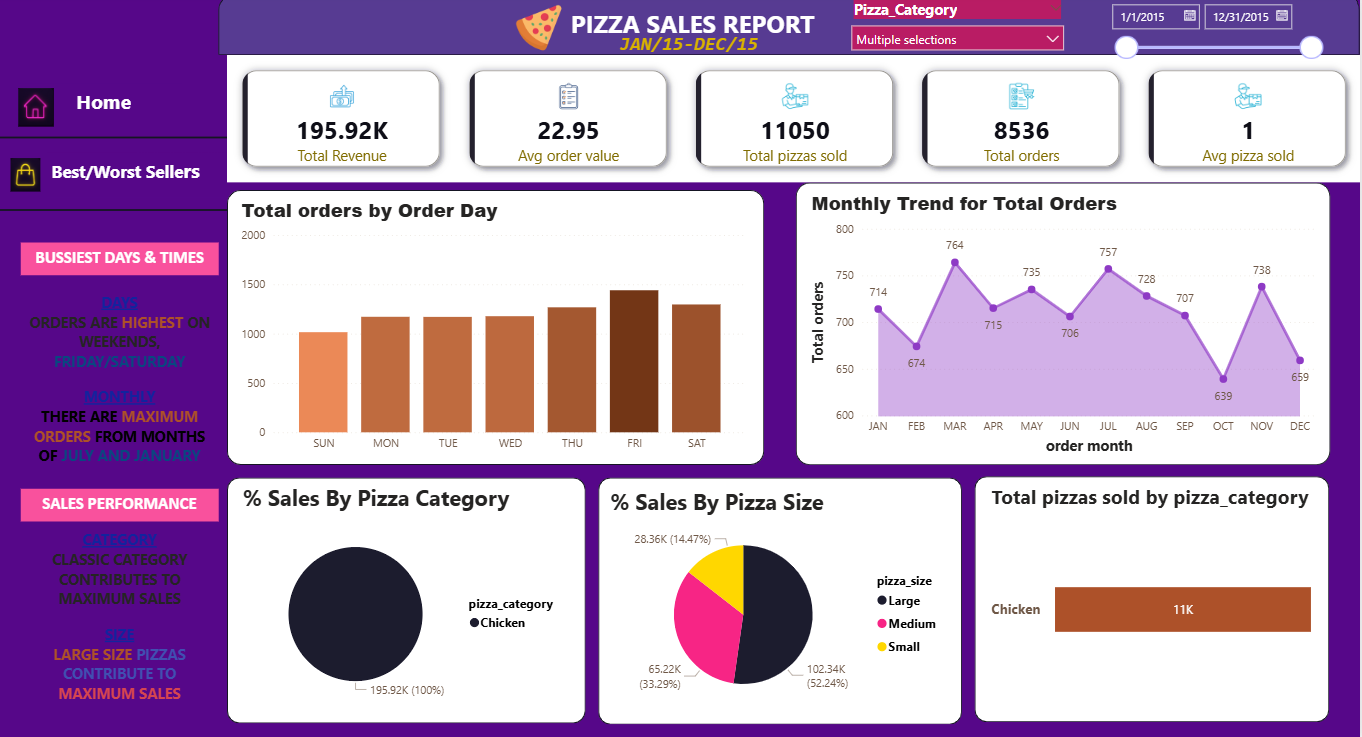

This screenshot's page, from the dashboard's own definition file:
{"tool":"powerbi","page":{"name":"Home ","canvas":[1500,820],"ordinal":0},"visuals":[{"type":"cardVisual","fields":{"Data":["pizza_sales.Total Revenue","pizza_sales.Avg order value","pizza_sales.Total pizzas sold","pizza_sales.Total orders","pizza_sales.Avg pizza sold"]},"box":[252.8,66,1247.6,140.1],"z":0},{"type":"shape","box":[243.2,0,1255.8,66],"z":1000},{"type":"textbox","box":[596.3,8.2,336.6,56.3],"z":2000},{"type":"textbox","box":[669.1,35.7,182.7,42.6],"z":3000},{"type":"image","box":[564.7,2.7,61.8,66],"z":4000},{"type":"shape","box":[253.5,214.5,590.5,302.2],"z":5000},{"type":"clusteredColumnChart","fields":{"Category":["pizza_sales.Order Day"],"Y":["pizza_sales.Total orders"]},"box":[263.2,221.4,565.4,289.7],"z":6000},{"type":"shape","box":[877.4,206.1,587.7,310.6],"z":7000},{"type":"lineChart","title":"Monthly Trend for Total Orders","fields":{"Y":["pizza_sales.Total orders"],"Category":["pizza_sales.order month"]},"box":[889.9,214.5,564,296.6],"z":8000},{"type":"shape","box":[253.5,530.6,394.1,270.2],"z":9000},{"type":"pieChart","title":"% Sales By Pizza Category","fields":{"Category":["pizza_sales.pizza_category"],"Y":["pizza_sales.Total Revenue"]},"box":[264.6,536.2,373.2,257.6],"z":10000},{"type":"shape","box":[661.5,530.6,399.7,271.6],"z":11000},{"type":"shape","box":[1075.1,529.2,389.9,270.2],"z":12000},{"type":"pieChart","title":"% Sales By Pizza Size","fields":{"Y":["pizza_sales.Total Revenue"],"Category":["pizza_sales.pizza_size"]},"box":[668.5,540.4,385.8,250.7],"z":13000},{"type":"funnel","fields":{"Category":["pizza_sales.pizza_category"],"Y":["pizza_sales.Total pizzas sold"]},"box":[1087.7,536.2,366.3,250.7],"z":14000},{"type":"textbox","box":[26.5,543.1,217.3,36.2],"z":15000},{"type":"textbox","box":[30.6,321.7,208.9,208.9],"z":16000},{"type":"textbox","box":[26.5,271.6,217.3,36.2],"z":17000},{"type":"textbox","box":[30.6,582.1,208.9,208.9],"z":18000},{"type":"slicer","fields":{"Values":["pizza_sales.pizza_category"]},"box":[928.8,0,254.2,299.5],"z":19000},{"type":"slicer","fields":{"Values":["pizza_sales.order_date"]},"box":[1213.2,0,252.8,299.5],"z":20000},{"type":"image","box":[6.9,174.5,48.1,46.7],"z":21000},{"type":"shape","box":[0,136,252.8,41.2],"z":22000},{"type":"textbox","box":[23.4,97.6,180,53.6],"z":23000},{"type":"image","box":[13.7,97.6,57.7,52.2],"z":24000},{"type":"actionButton","box":[20.6,97.6,182.7,52.2],"z":25000},{"type":"textbox","box":[55,173.1,197.9,49.5],"z":26000},{"type":"actionButton","box":[4.1,173.1,235,49.5],"z":27000},{"type":"shape","box":[0,222.6,252.8,27.5],"z":28000}]}

Visuals, with their boxes in screenshot pixels (x1, y1, x2, y2):
cardVisual - pizza_sales.Total Revenue x pizza_sales.Avg order value: 218, 50, 1361, 179
shape: 210, 0, 1361, 50
textbox: 534, 0, 844, 49
textbox: 601, 22, 769, 61
image: 505, 0, 562, 53
shape: 219, 187, 762, 465
clusteredColumnChart - pizza_sales.Order Day x pizza_sales.Total orders: 228, 193, 748, 460
shape: 793, 179, 1334, 465
"Monthly Trend for Total Orders" lineChart: 804, 187, 1323, 460
shape: 219, 477, 582, 726
"% Sales By Pizza Category" pieChart: 229, 483, 573, 720
shape: 594, 477, 962, 727
shape: 975, 476, 1333, 725
"% Sales By Pizza Size" pieChart: 601, 486, 956, 717
funnel - pizza_sales.pizza_category x pizza_sales.Total pizzas sold: 986, 483, 1323, 713
textbox: 10, 489, 210, 522
textbox: 14, 285, 206, 477
textbox: 10, 239, 210, 272
textbox: 14, 525, 206, 717
slicer - pizza_sales.pizza_category: 840, 0, 1074, 265
slicer - pizza_sales.order_date: 1102, 0, 1334, 265
image: 0, 150, 36, 193
shape: 0, 114, 218, 152
textbox: 7, 79, 173, 128
image: 0, 79, 51, 127
actionButton: 5, 79, 173, 127
textbox: 36, 149, 218, 194
actionButton: 0, 149, 206, 194
shape: 0, 194, 218, 219
